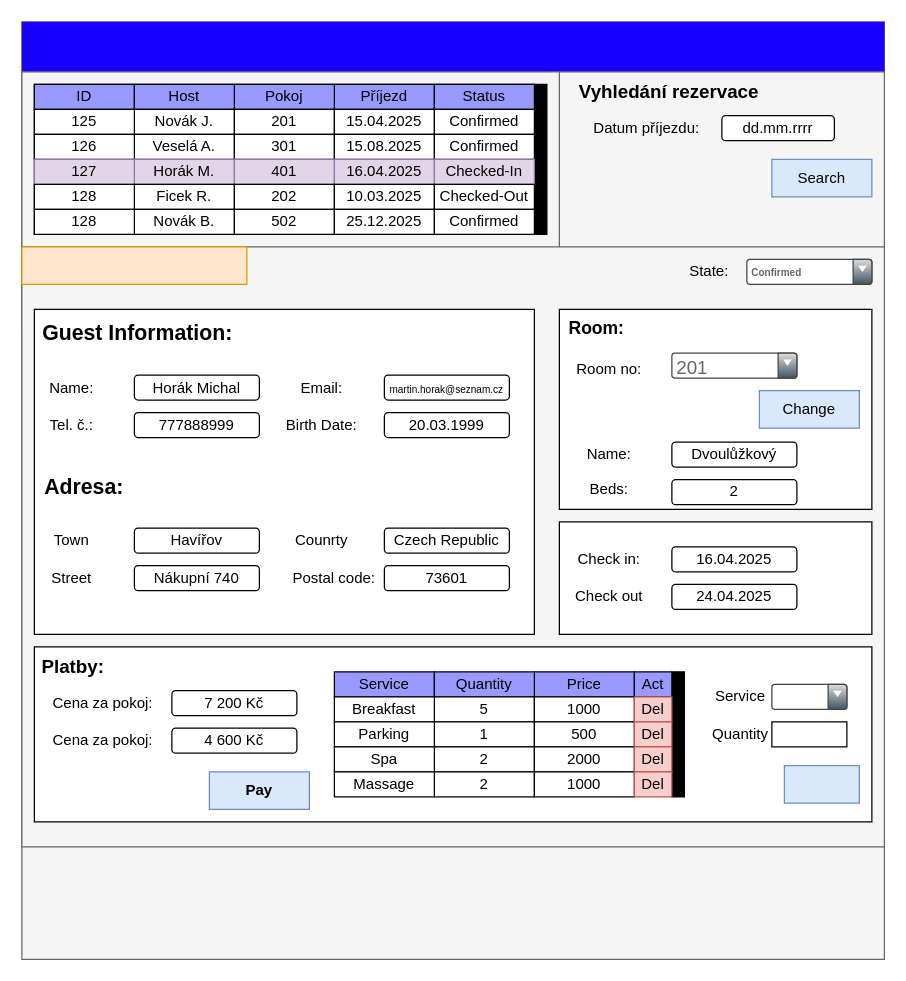
The diagram is 906 pixels wide and 981 high, and some of its shapes have lost their labels. Each missing label, with the box of its shape:
Add: (783, 764, 859, 803)
Detail rezervace: (21, 246, 247, 284)
Regular: (771, 683, 847, 709)
Správa hotelových rezervací: (21, 21, 884, 71)
